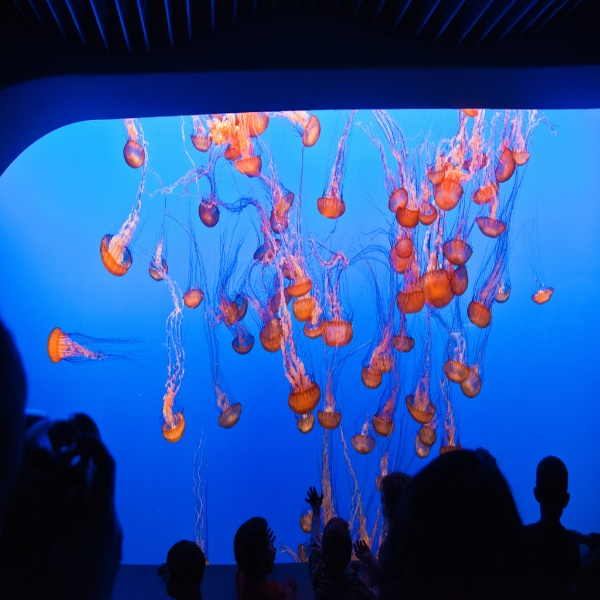Jellyfish: (45, 116, 556, 490), (117, 115, 149, 169)
